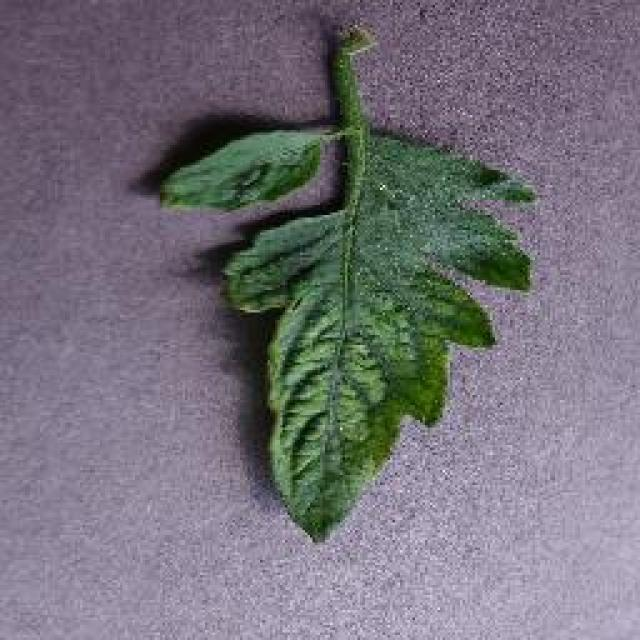Tomato___Tomato_mosaic_virus: (160, 30, 532, 538)
